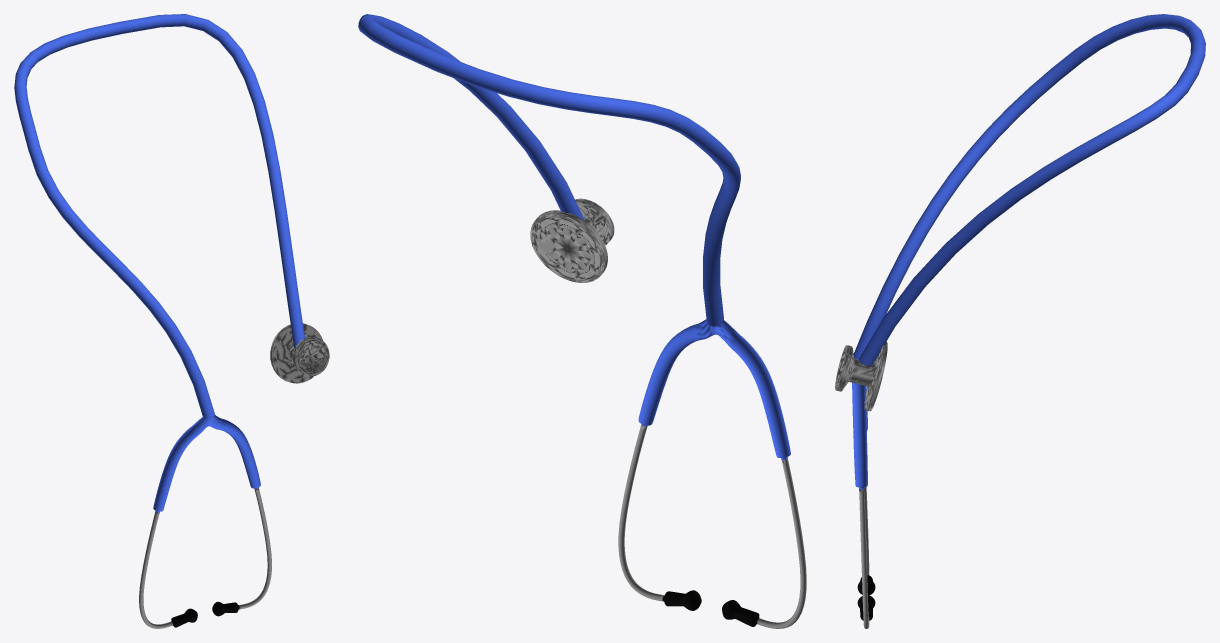
The model's file is SCOPE.fbx.
3 views of the same model, side by side, from view 1: azimuth 30°, elevation 25°; view 2: azimuth 150°, elevation 25°; view 3: azimuth 270°, elevation 25° (orthographic). The views are drawn at different scales.
Parts seen in each view (by area): view 1: 16958_stethoscope_v1.003; view 2: 16958_stethoscope_v1.003; view 3: 16958_stethoscope_v1.003.
Part boxes in pixels (x1,y1,x2,y2): 16958_stethoscope_v1.003: (14,14,329,628); 16958_stethoscope_v1.003: (358,14,806,628); 16958_stethoscope_v1.003: (835,14,1205,628).
Size of the model in its own units: 18.3 by 37.36 by 21.9.
